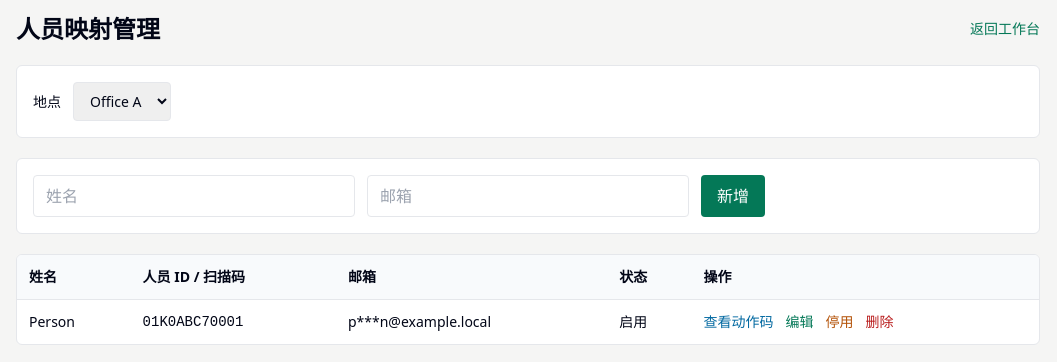
Scenario: management pages › keeps list email masked and reveals the full value only in the controlled edit form
Expected: the text "p***n@example.local" is shown, [336,300,607,344]
Expected: the button "查看动作码" is shown, [704,312,774,332]
Click the button "编辑" at {"x": 800, "y": 322}, box [786,312,814,332]
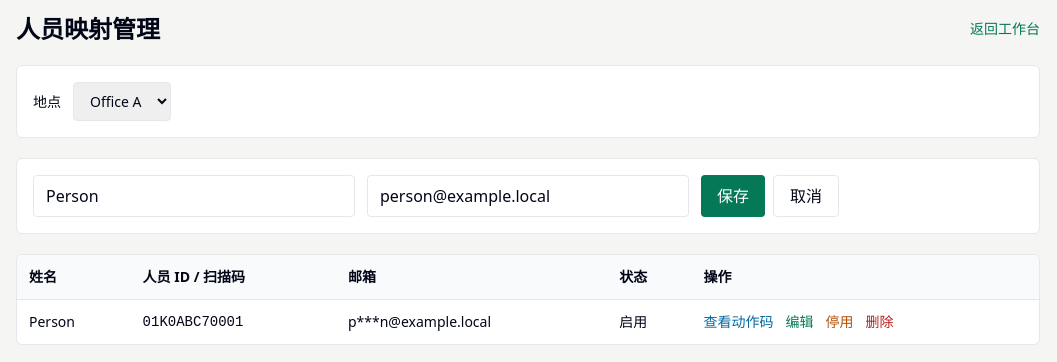
Expected: the field showing "person@example.local" is shown, [367,175,689,217]
